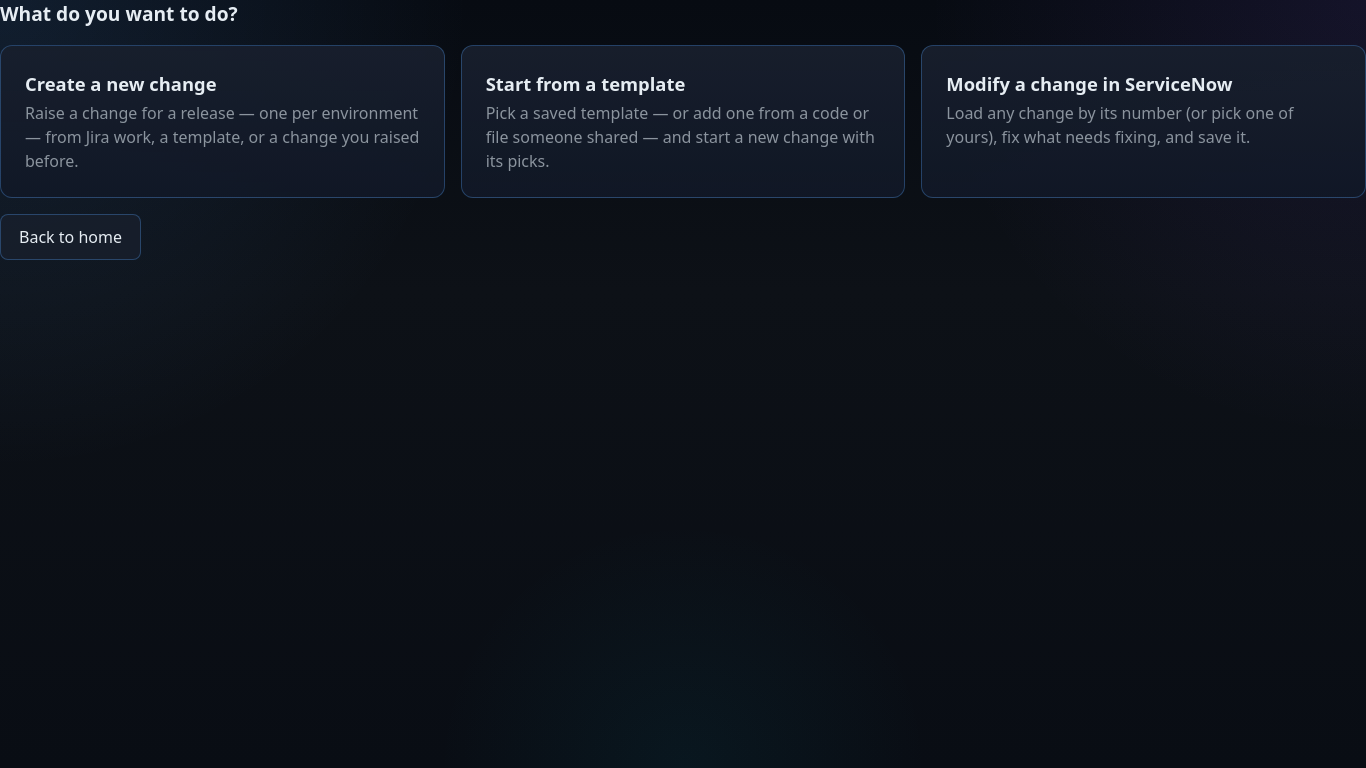
Scenario: ChangeWizard — new change › starts with the choice of a new change or an existing one
Click the button "Create a new change": (222, 122) [0,45,445,198]
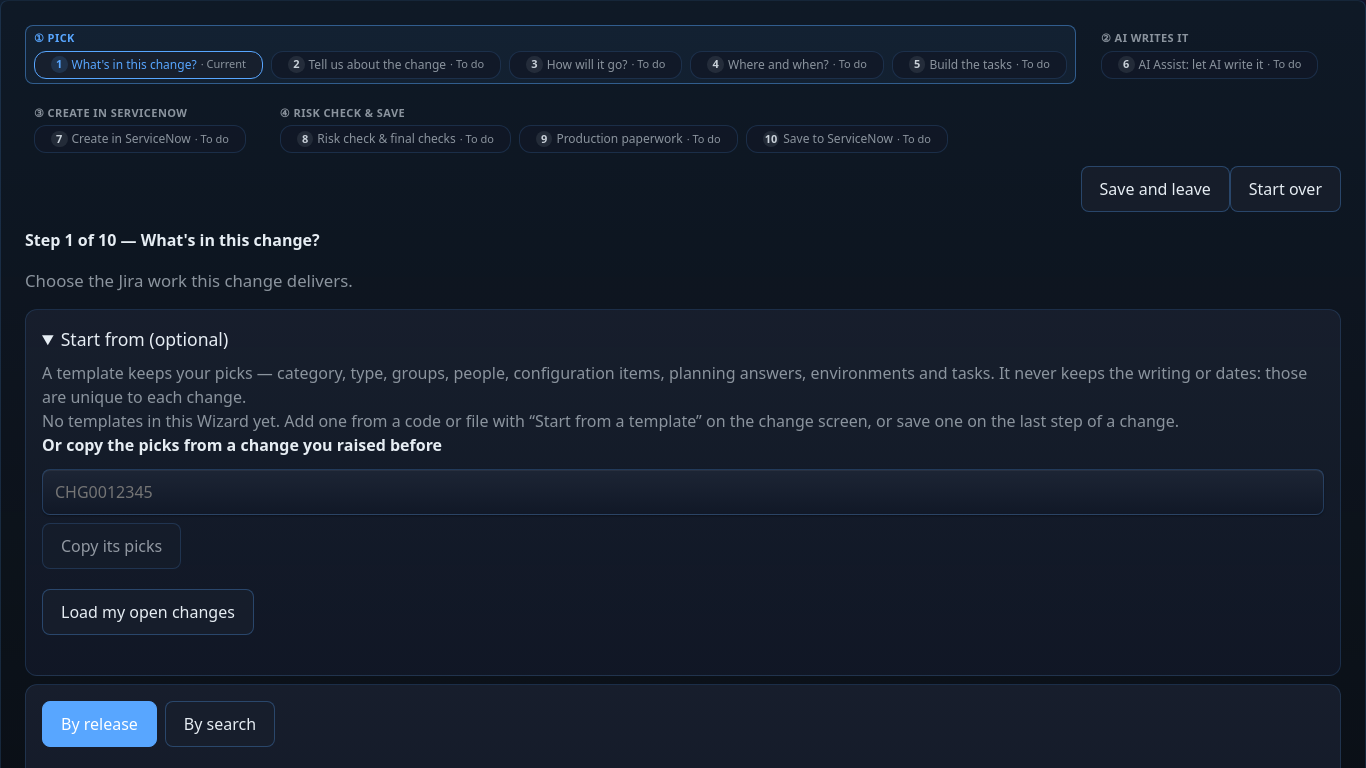
Check: the heading "Step 1 of 10 — What's in this change?" is shown, box [25,229,320,251]
Check: the heading "Start from (optional)" is shown, box [61,327,228,351]
